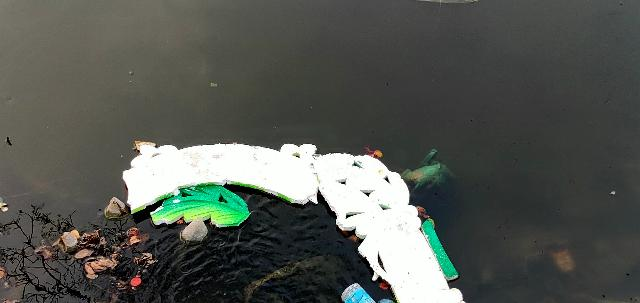cocksheet: (126, 146, 425, 214), (343, 186, 461, 303)
